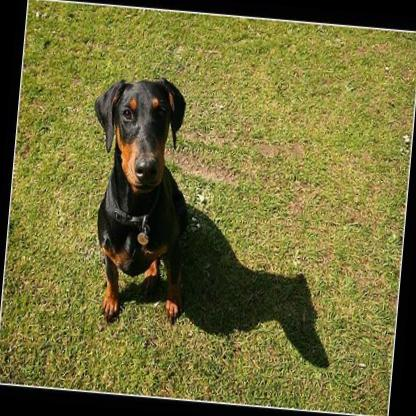Doberman: (74, 72, 204, 326)
